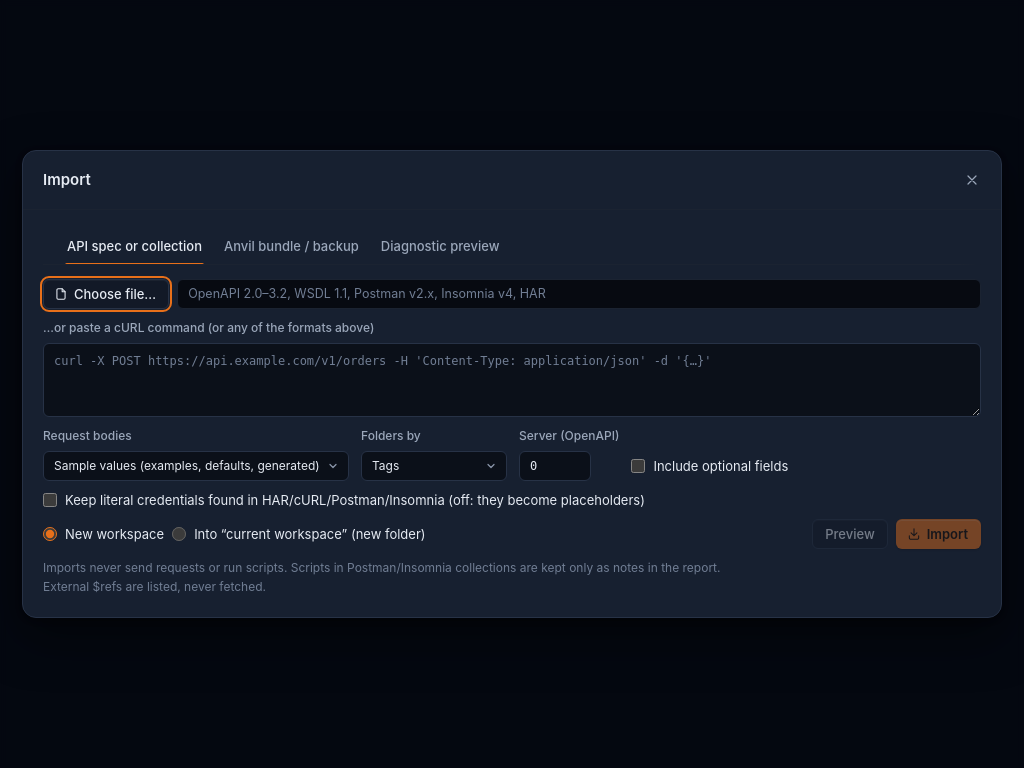
Scenario: import dialog cancellation › words a busy refusal instead of showing the raw code
Click the tab "Anvil bundle / backup" at (291, 246), box left=214, top=228, right=369, bottom=264
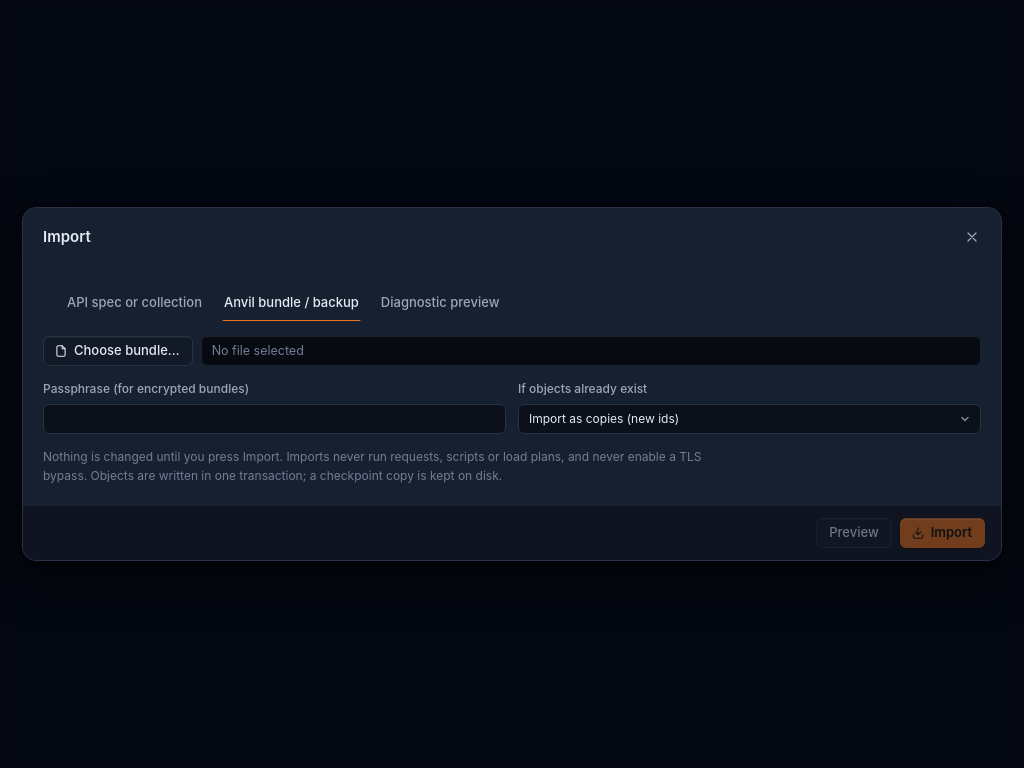
Click the button "Choose bundle…" at (118, 351), box left=43, top=336, right=193, bottom=366
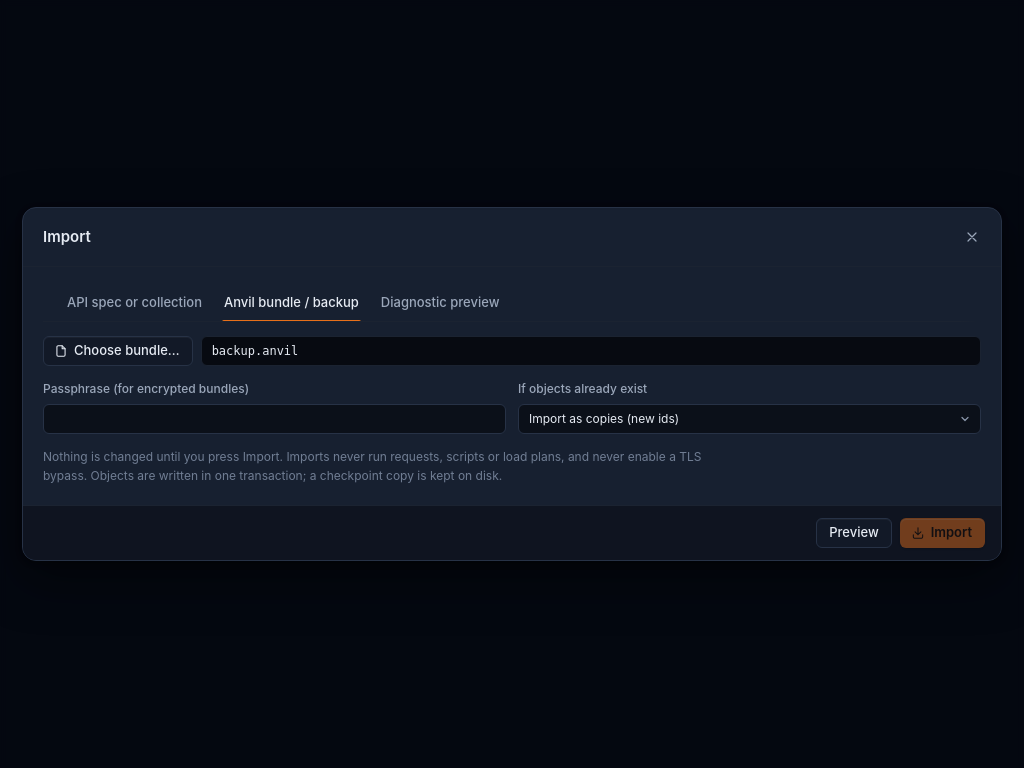
Expected: the text "backup.anvil" is shown, left=201, top=336, right=981, bottom=366
Type "backup passphrase" into the password field labelled "Passphrase (for encrypted bundles)" at (274, 419), box left=43, top=404, right=506, bottom=434
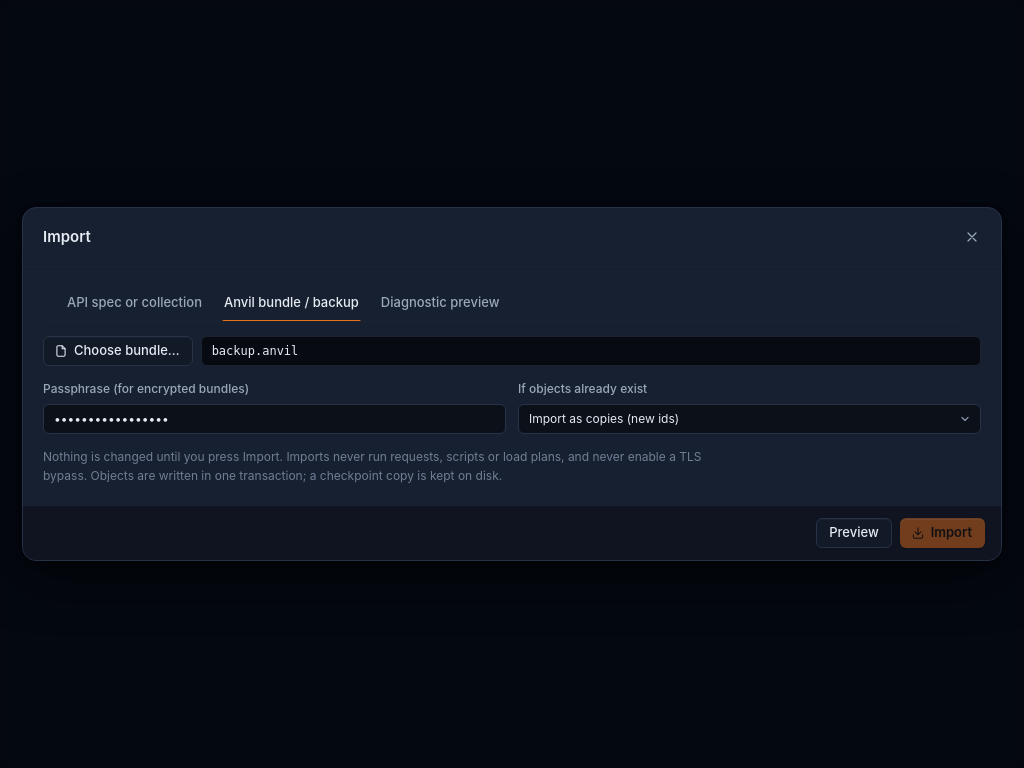
Click the button "Preview" at (854, 533), box left=816, top=518, right=892, bottom=548
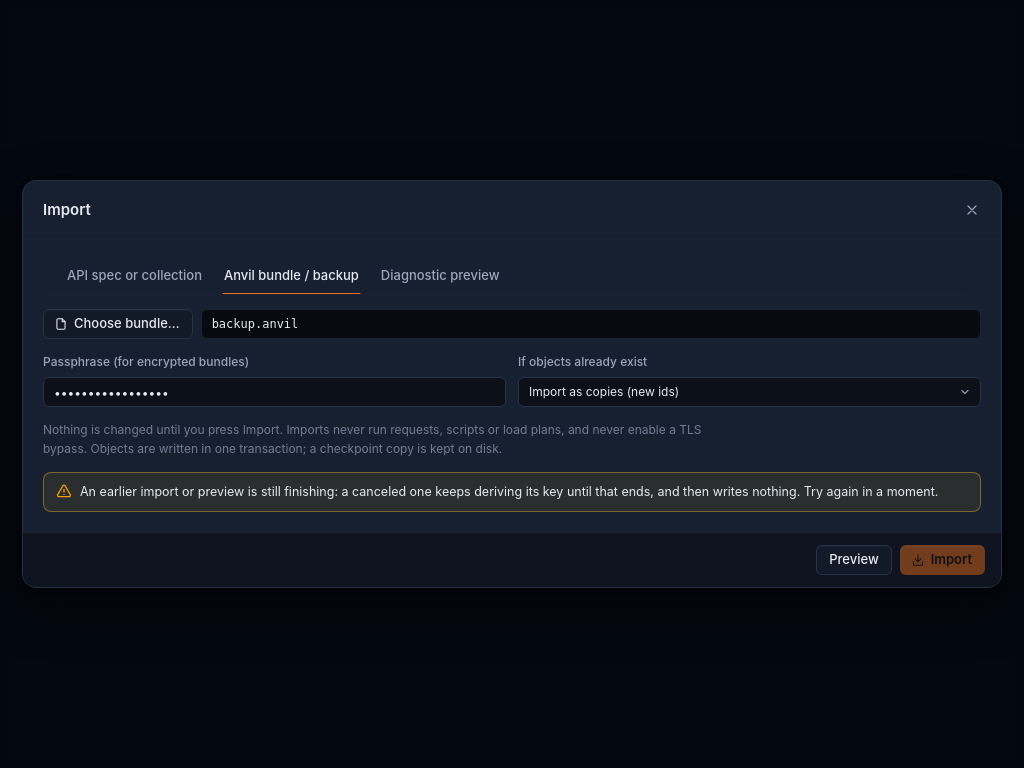
Expected: the button "Preview" is enabled, left=816, top=545, right=892, bottom=575
Expected: the text "An earlier import or preview is still finishing: a canceled one keeps deriving its key until that ends, and then writes " is shown, left=80, top=484, right=938, bottom=499
